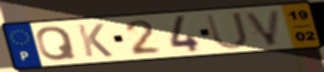2: (124, 19, 164, 57)
4: (167, 14, 203, 55)
K: (75, 22, 115, 59)
Q: (34, 25, 79, 62)
U: (204, 11, 251, 51)
V: (242, 8, 283, 47)
